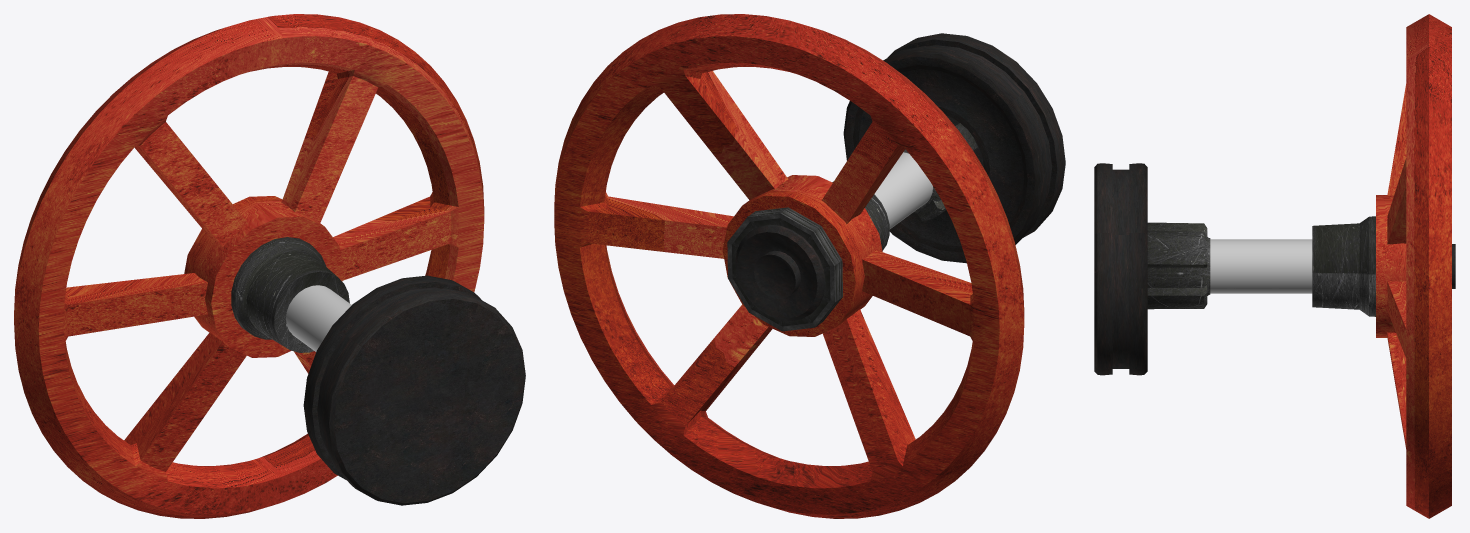
File: VALVE.fbx
3 views of the same model, side by side, from view 1: azimuth 30°, elevation 25°; view 2: azimuth 150°, elevation 25°; view 3: azimuth 270°, elevation 25° (orthographic). The views are drawn at different scales.
Visible parts, largest first — view 1: Torus001; view 2: Torus001; view 3: Torus001.
Boxes of the visible parts, x1,y1,x2,y2 form: Torus001: (14,14,525,518); Torus001: (554,14,1065,518); Torus001: (1094,14,1455,518).
Size of the model in its own units: 170 by 170 by 121.
